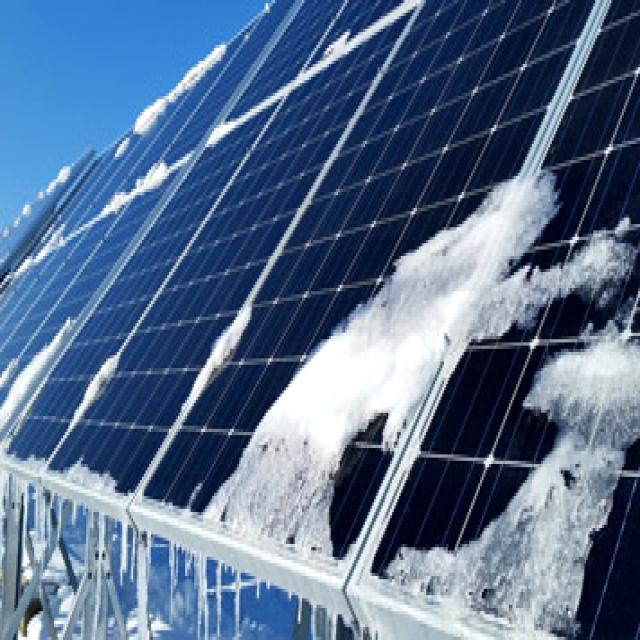panel: (407, 166, 556, 290), (266, 370, 340, 580), (536, 191, 640, 339), (534, 310, 640, 454), (348, 282, 430, 448), (54, 304, 120, 498), (390, 533, 520, 618), (2, 165, 86, 275), (114, 62, 234, 136), (176, 305, 253, 415), (528, 474, 604, 576), (208, 449, 266, 562), (4, 328, 64, 430), (301, 306, 363, 399), (96, 169, 184, 204), (317, 18, 356, 70)
